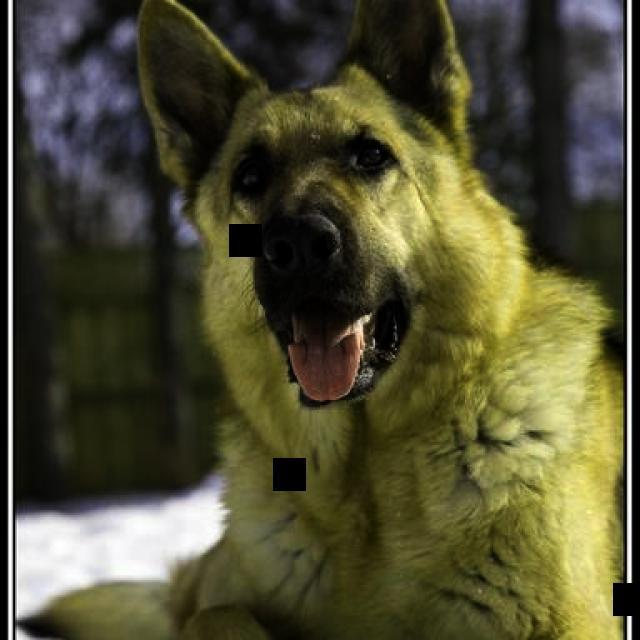adult_dog: (16, 1, 626, 640)
